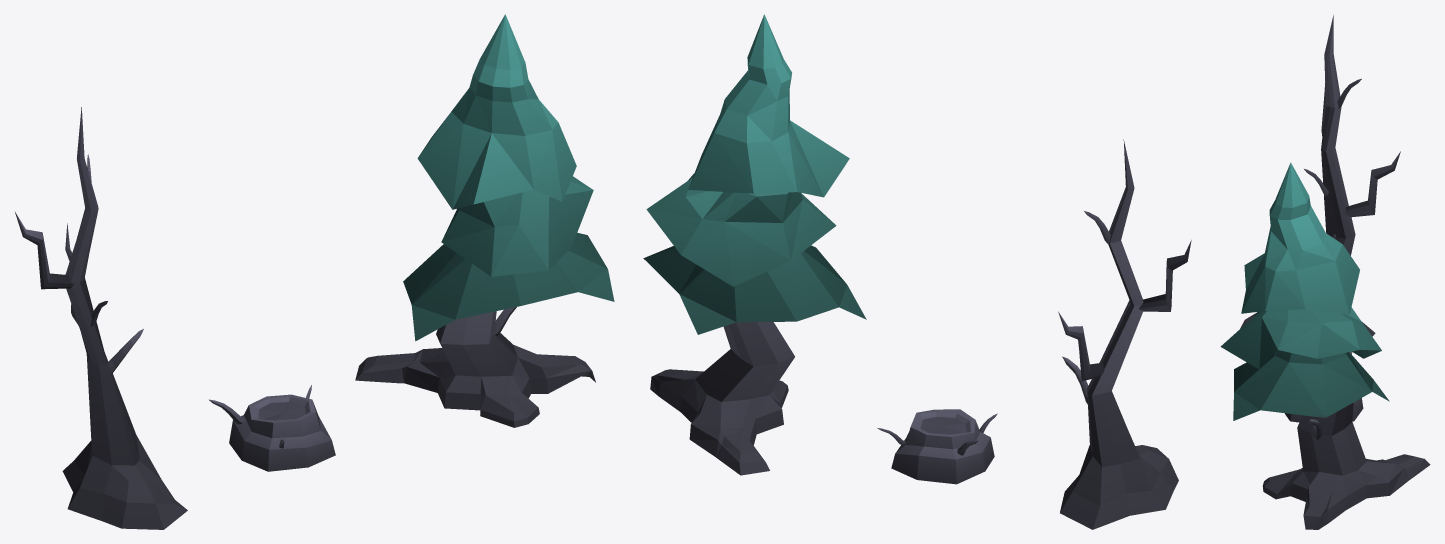
Rendered from Trees.fbx.
3 renders of one model, left to right at view 1: azimuth 30°, elevation 25°; view 2: azimuth 150°, elevation 25°; view 3: azimuth 270°, elevation 25°, orthographic. The views are drawn at different scales.
Visible parts, largest first — view 1: pasted__FatTree, pasted__SpikyTree, pasted__Stump; view 2: pasted__FatTree, pasted__SpikyTree, pasted__Stump; view 3: pasted__FatTree, pasted__SpikyTree, pasted__Stump.
Boxes of the visible parts, x1,y1,x2,y2 form: pasted__FatTree: [355, 14, 614, 427]; pasted__SpikyTree: [15, 107, 187, 529]; pasted__Stump: [209, 385, 335, 471]; pasted__FatTree: [643, 14, 866, 475]; pasted__SpikyTree: [1058, 139, 1191, 529]; pasted__Stump: [877, 409, 997, 484]; pasted__FatTree: [1220, 162, 1430, 529]; pasted__SpikyTree: [1240, 15, 1400, 336]; pasted__Stump: [1285, 351, 1363, 422].
Bounding box in the file's own units: 2560 × 1718 × 999.
1 material, 1 textured.
